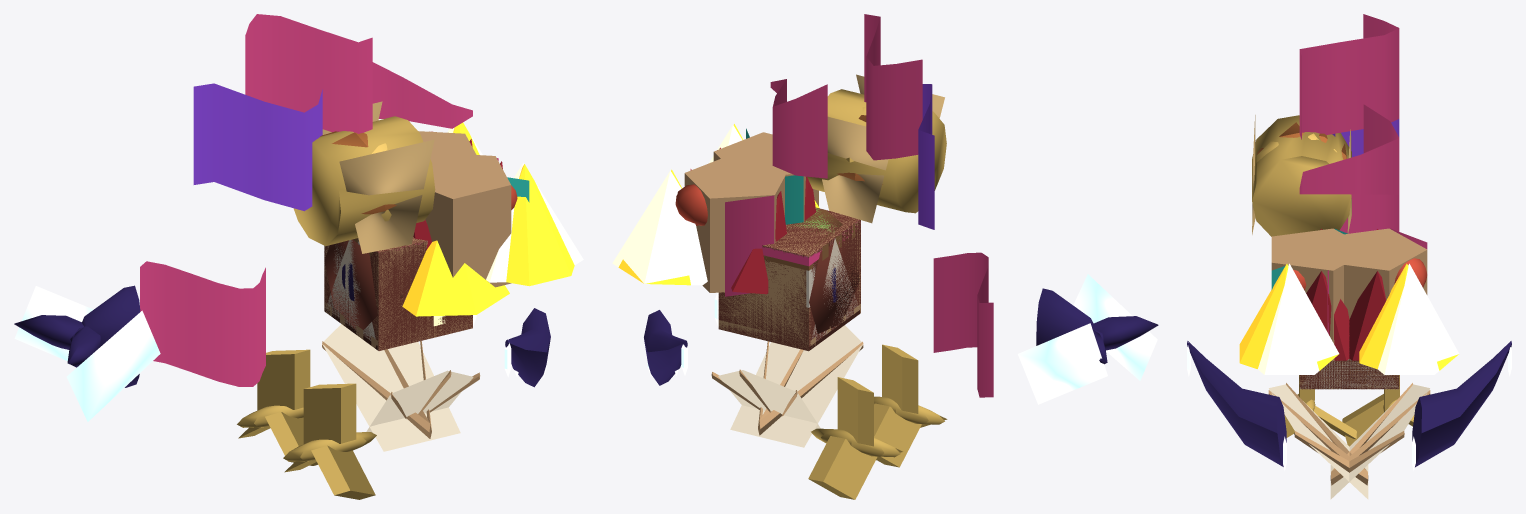
The model's file is fete-mer-leger.glb.
3 views of the same model, side by side, from view 1: azimuth 30°, elevation 25°; view 2: azimuth 150°, elevation 25°; view 3: azimuth 270°, elevation 25° (orthographic). The views are drawn at different scales.
Visible parts, largest first — view 1: ponton_gong, barge_drapeau, dirigeable_banderole, ponton_drapeau, etoilee_queue, ponton_brasg, dirigeable_ailed, barge_corps, dirigeable_heliceg, ponton_flamme0, dirigeable_heliced, barge_flamme (+6 smaller); view 2: ponton_brasd, etoilee_queue, ponton_gong, barge_corps, dirigeable_aileg, lanterne_corps, dirigeable_banderole, ponton_drapeau, ponton_flamme1, dirigeable_heliced, balise_fanion, dirigeable_heliceg (+5 smaller); view 3: ponton_drapeau, ponton_gong, ponton_brasd, ponton_flamme0, ponton_flamme1, ponton_brasg, balise_fanion, etoilee_nageoireg, etoilee_nageoired, dirigeable_ailed, dirigeable_aileg, barge_corps (+5 smaller).
Boxes of the visible parts, bbox=[...] form: ponton_gong: bbox=[293, 101, 435, 253]; barge_drapeau: bbox=[193, 83, 322, 211]; dirigeable_banderole: bbox=[140, 261, 265, 386]; ponton_drapeau: bbox=[245, 14, 372, 133]; etoilee_queue: bbox=[14, 285, 160, 421]; ponton_brasg: bbox=[413, 152, 529, 287]; dirigeable_ailed: bbox=[322, 324, 460, 451]; barge_corps: bbox=[324, 238, 472, 350]; dirigeable_heliceg: bbox=[283, 383, 376, 499]; ponton_flamme0: bbox=[486, 163, 583, 286]; dirigeable_heliced: bbox=[237, 349, 317, 465]; barge_flamme: bbox=[402, 240, 509, 316]; ponton_brasd: bbox=[675, 159, 786, 296]; etoilee_queue: bbox=[1018, 274, 1158, 404]; ponton_gong: bbox=[807, 74, 946, 223]; barge_corps: bbox=[718, 207, 860, 351]; dirigeable_aileg: bbox=[730, 325, 863, 447]; lanterne_corps: bbox=[718, 210, 860, 350]; dirigeable_banderole: bbox=[933, 252, 993, 397]; ponton_drapeau: bbox=[864, 14, 922, 160]; ponton_flamme1: bbox=[612, 169, 707, 285]; dirigeable_heliced: bbox=[808, 377, 902, 499]; balise_fanion: bbox=[770, 79, 827, 178]; dirigeable_heliceg: bbox=[874, 344, 947, 467]; ponton_drapeau: bbox=[1299, 14, 1399, 139]; ponton_gong: bbox=[1252, 115, 1351, 236]; ponton_brasd: bbox=[1327, 228, 1427, 360]; ponton_flamme0: bbox=[1239, 263, 1339, 374]; ponton_flamme1: bbox=[1359, 263, 1459, 374]; ponton_brasg: bbox=[1271, 228, 1370, 361]; balise_fanion: bbox=[1299, 104, 1399, 194]; etoilee_nageoireg: bbox=[1187, 341, 1286, 470]; etoilee_nageoired: bbox=[1412, 341, 1511, 470]; dirigeable_ailed: bbox=[1330, 383, 1430, 499]; dirigeable_aileg: bbox=[1268, 383, 1368, 499]; barge_corps: bbox=[1299, 359, 1399, 389].
Size of the model in its own units: 10.55 by 8.92 by 6.5.
